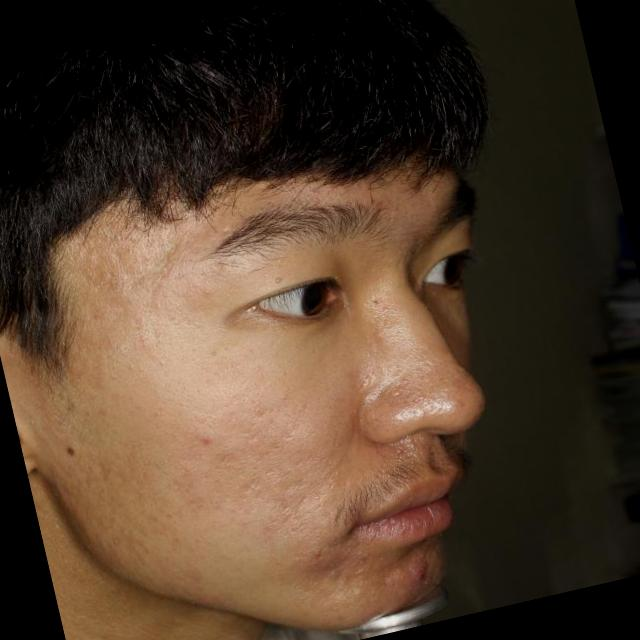acne: (398, 550, 442, 588)
